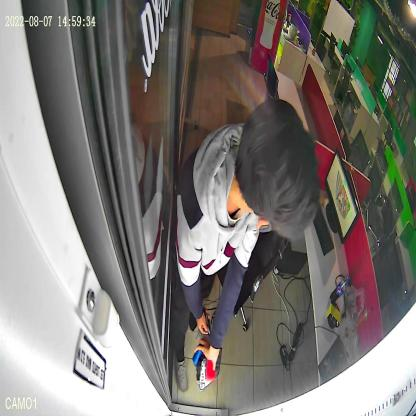blue: (192, 343, 206, 366)
red: (197, 348, 222, 390)
